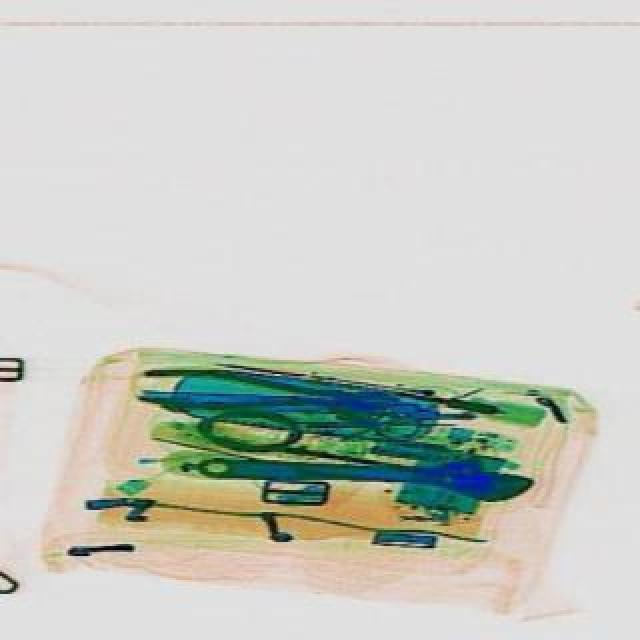scissors: (194, 444, 532, 500)
wrench: (134, 366, 394, 418)
